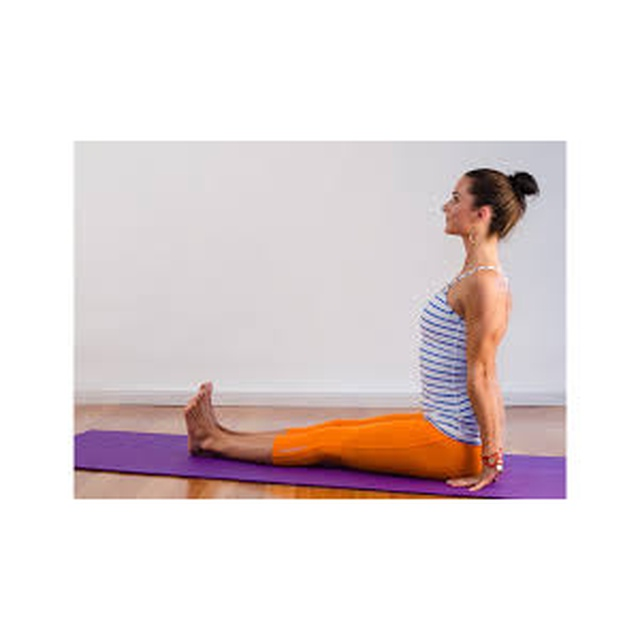Staff_Pose: (185, 169, 543, 495)
